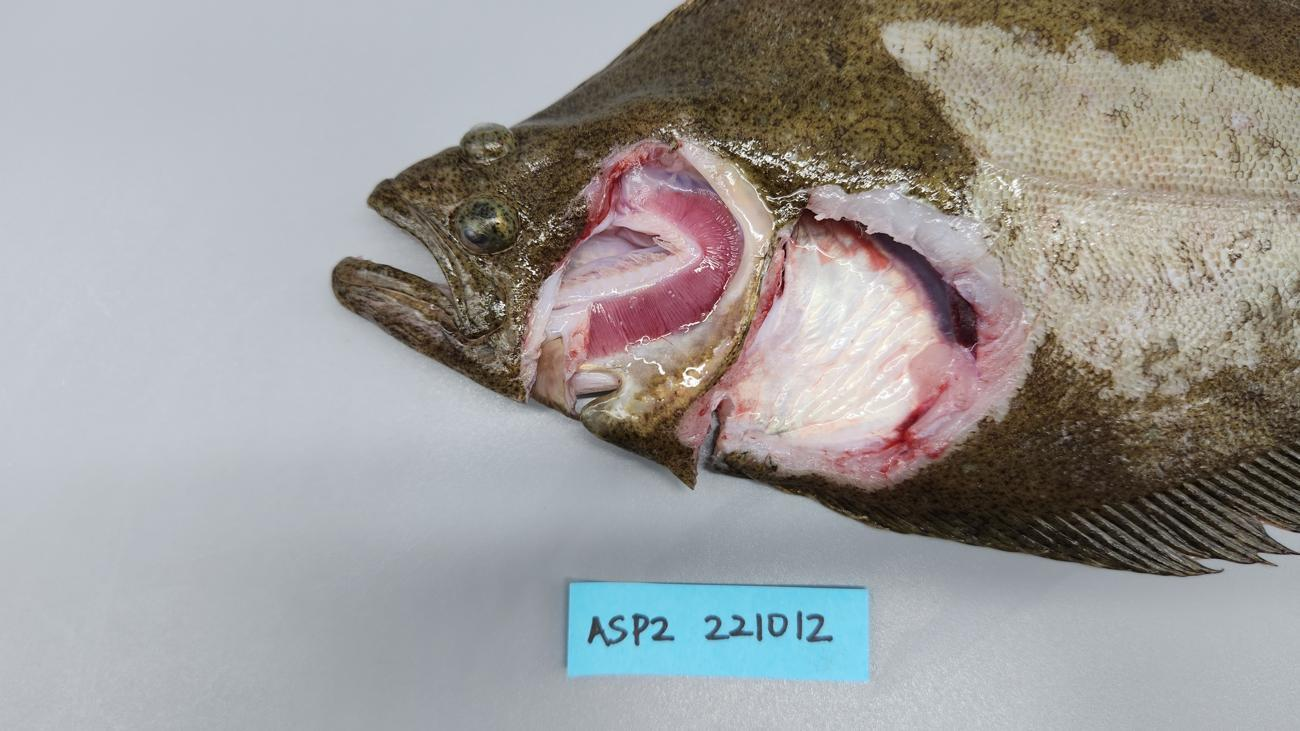SPASQ: (721, 215, 943, 436)
